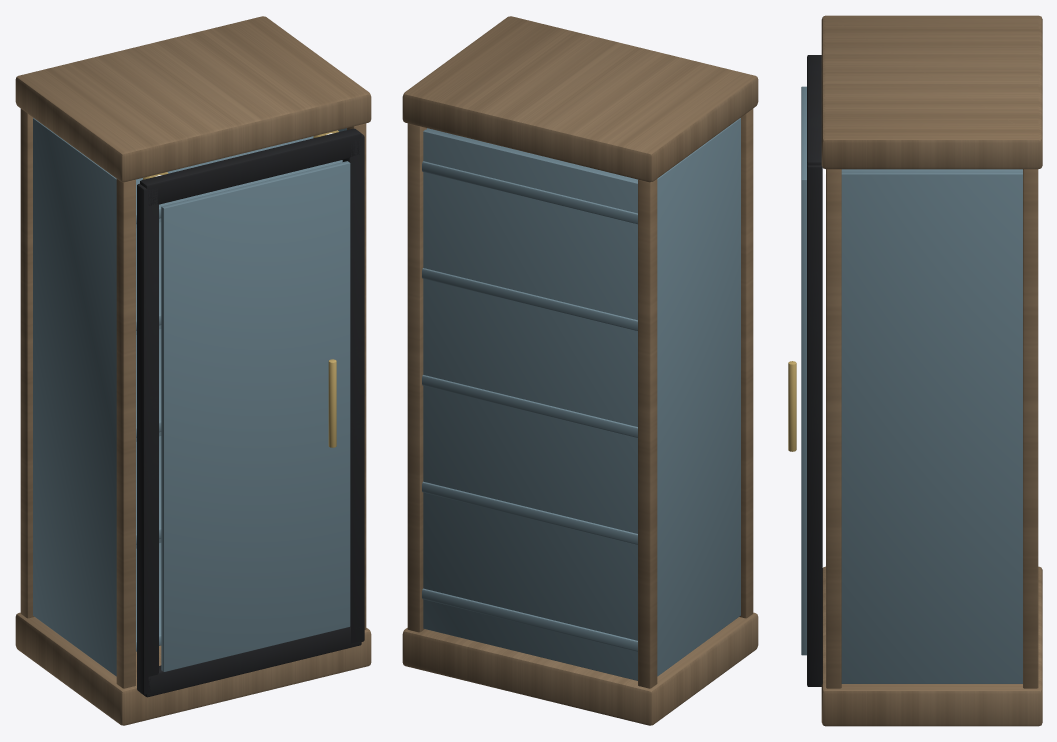
The model's file is pf_display_glass_display_tower_t3.glb.
The picture shows the model from 3 angles, left to right: view 1: azimuth 30°, elevation 25°; view 2: azimuth 150°, elevation 25°; view 3: azimuth 270°, elevation 25°; orthographic projection. The views are drawn at different scales.
Visible parts, largest first — view 1: Door_Glass_01, Tower_Glass_2, Tower_Top, Tower_Base, Door_Frame_01_L, Tower_Post_-0.40_-0.29, Door_Frame_01_R, Tower_Post_-0.40_+0.29, Door_Frame_01_Top, Door_Frame_01_Bottom, Tower_Post_+0.40_-0.29, Shelf_05 (+1 smaller); view 2: Tower_Glass_1, Tower_Glass_2, Tower_Top, Tower_Base, Tower_Post_-0.40_+0.29, Tower_Post_+0.40_+0.29, Tower_Post_-0.40_-0.29, Shelf_05, Shelf_01, Shelf_02, Shelf_03, Shelf_04; view 3: Tower_Glass_3, Tower_Top, Tower_Base, Door_Frame_01_R, Tower_Post_+0.40_+0.29, Tower_Post_+0.40_-0.29, Door_Glass_01, Door_Frame_01_Top, Door_Handle_01, Shelf_05.
Part boxes in pixels (x1=…): Door_Glass_01: x1=161, y1=161, x2=350, y2=671; Tower_Glass_2: x1=33, y1=118, x2=116, y2=676; Tower_Top: x1=15, y1=16, x2=371, y2=182; Tower_Base: x1=15, y1=612, x2=371, y2=725; Door_Frame_01_L: x1=137, y1=183, x2=158, y2=694; Tower_Post_-0.40_-0.29: x1=116, y1=179, x2=135, y2=688; Door_Frame_01_R: x1=342, y1=133, x2=364, y2=643; Tower_Post_-0.40_+0.29: x1=20, y1=109, x2=34, y2=618; Door_Frame_01_Top: x1=140, y1=128, x2=361, y2=205; Door_Frame_01_Bottom: x1=141, y1=627, x2=361, y2=697; Tower_Post_+0.40_-0.29: x1=347, y1=123, x2=366, y2=629; Shelf_05: x1=136, y1=136, x2=342, y2=224; Tower_Glass_1: x1=423, y1=129, x2=637, y2=680; Tower_Glass_2: x1=657, y1=118, x2=740, y2=676; Tower_Top: x1=402, y1=16, x2=758, y2=182; Tower_Base: x1=402, y1=612, x2=758, y2=725; Tower_Post_-0.40_+0.29: x1=638, y1=179, x2=657, y2=688; Tower_Post_+0.40_+0.29: x1=407, y1=123, x2=426, y2=632; Tower_Post_-0.40_-0.29: x1=739, y1=109, x2=753, y2=618; Shelf_05: x1=422, y1=135, x2=637, y2=224; Shelf_01: x1=422, y1=588, x2=637, y2=651; Shelf_02: x1=422, y1=481, x2=637, y2=544; Shelf_03: x1=422, y1=375, x2=637, y2=437; Shelf_04: x1=422, y1=268, x2=637, y2=330; Tower_Glass_3: x1=841, y1=171, x2=1022, y2=683; Tower_Top: x1=821, y1=15, x2=1042, y2=169; Tower_Base: x1=821, y1=566, x2=1042, y2=726; Door_Frame_01_R: x1=807, y1=165, x2=822, y2=685; Tower_Post_+0.40_+0.29: x1=1023, y1=169, x2=1038, y2=688; Tower_Post_+0.40_-0.29: x1=826, y1=169, x2=841, y2=688; Door_Glass_01: x1=801, y1=86, x2=806, y2=655; Door_Frame_01_Top: x1=807, y1=55, x2=821, y2=165; Door_Handle_01: x1=788, y1=361, x2=796, y2=451; Shelf_05: x1=841, y1=169, x2=1022, y2=171.
Bounding box in the file's own units: 0.86 × 1.88 × 0.737.
6 materials, 2 textured.
